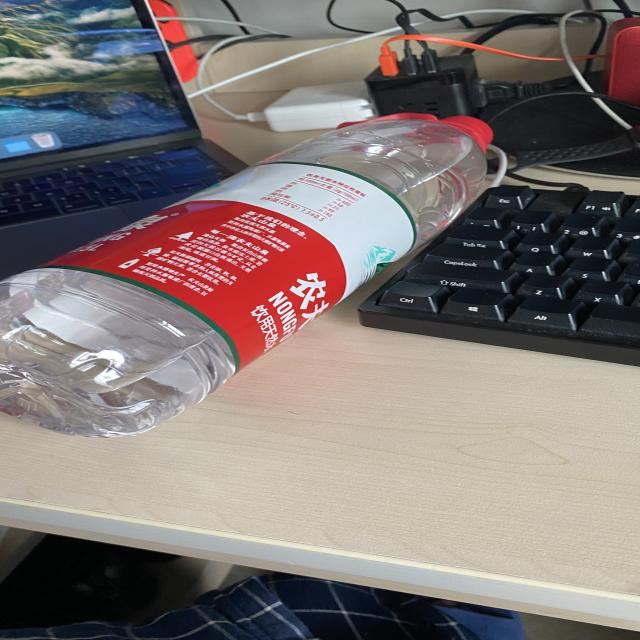Anorganik: (0, 99, 503, 446)
